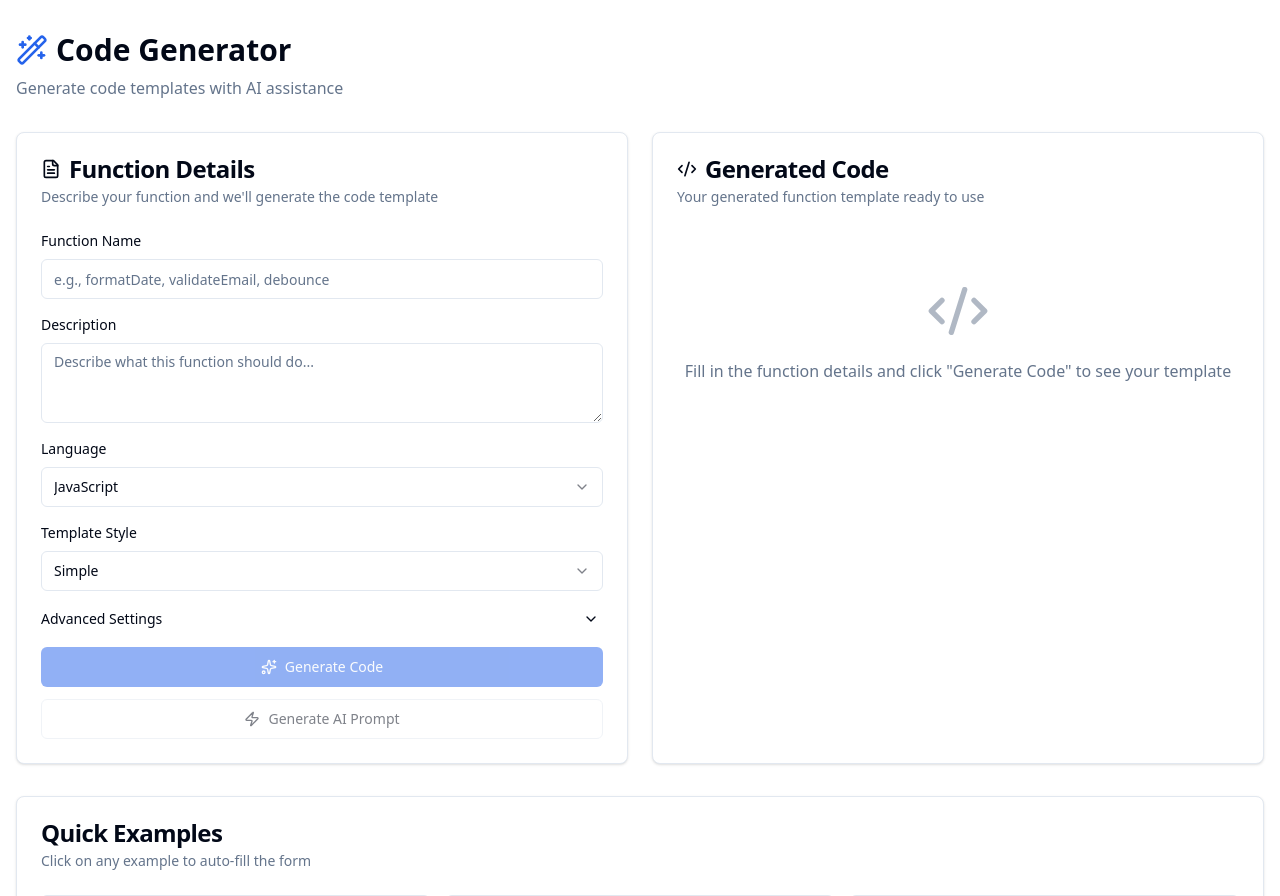
GeneratorPage › enables generate buttons when form is complete
Type "testFunction" into the field with placeholder "e.g., formatDate, validateEmail, debounce" at (322, 279), box [41,259,603,299]
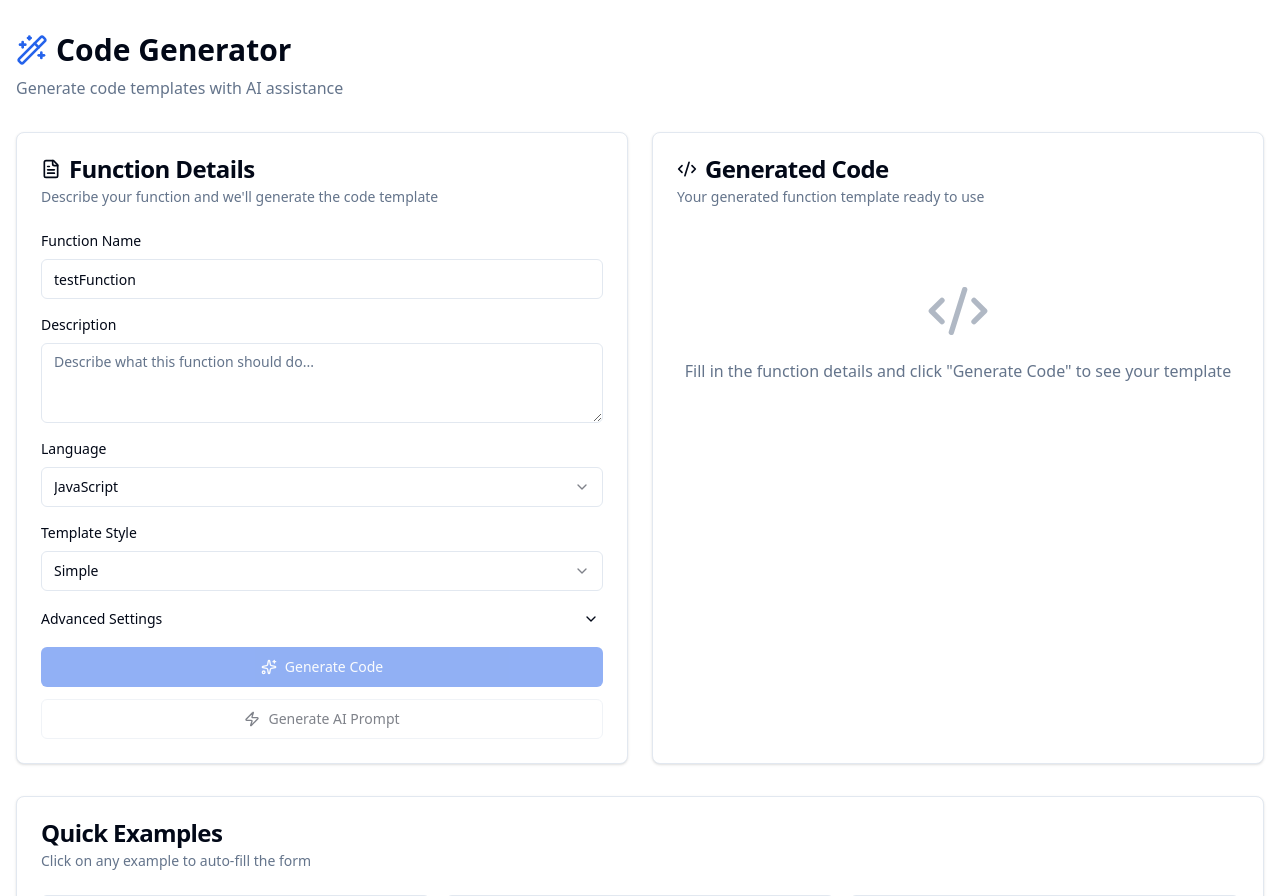
Type "A test function" into the text box with placeholder "Describe what this function should do..." at (322, 383), box [41,343,603,423]
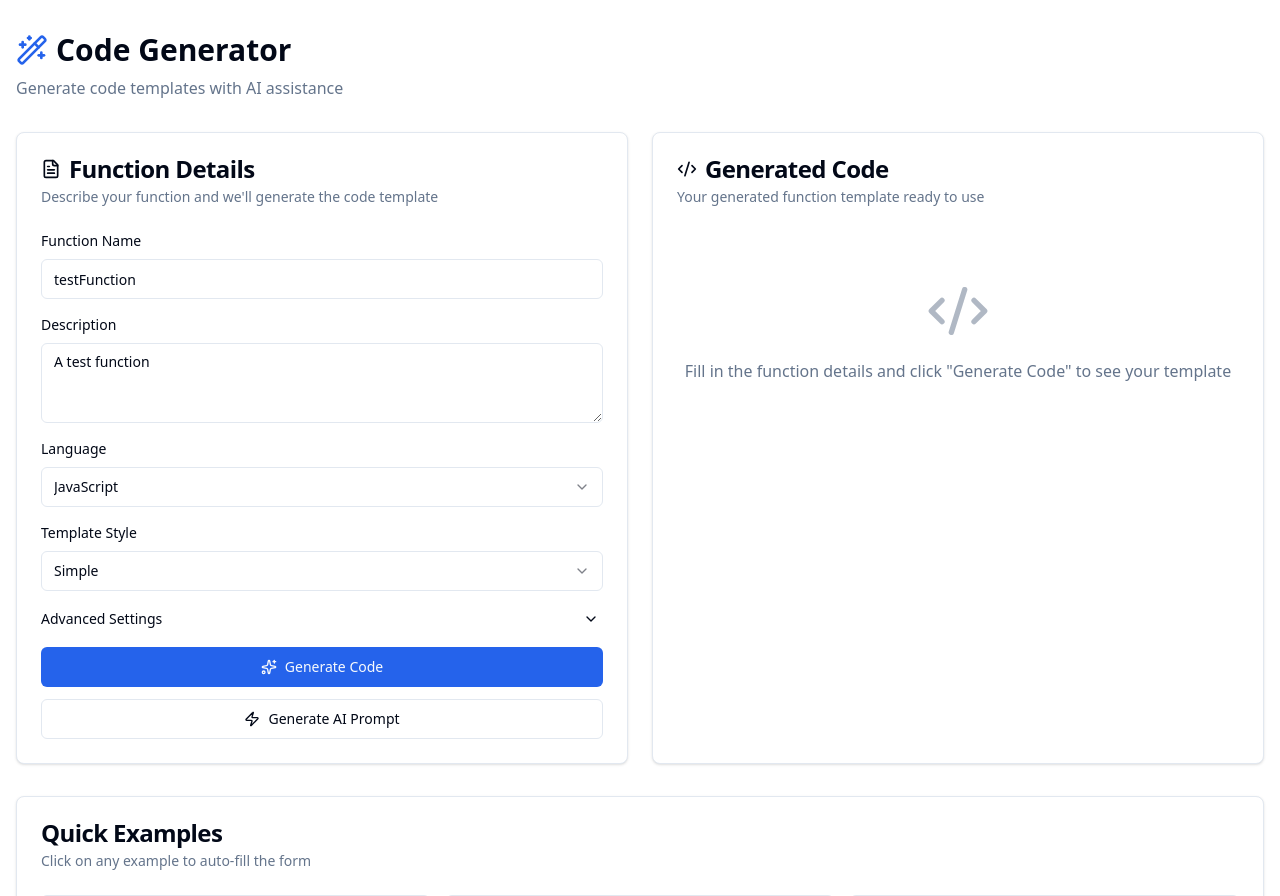
Expected: the button "Generate Code" is enabled, [41,647,603,687]
Expected: the button "Generate AI Prompt" is enabled, [41,699,603,739]
